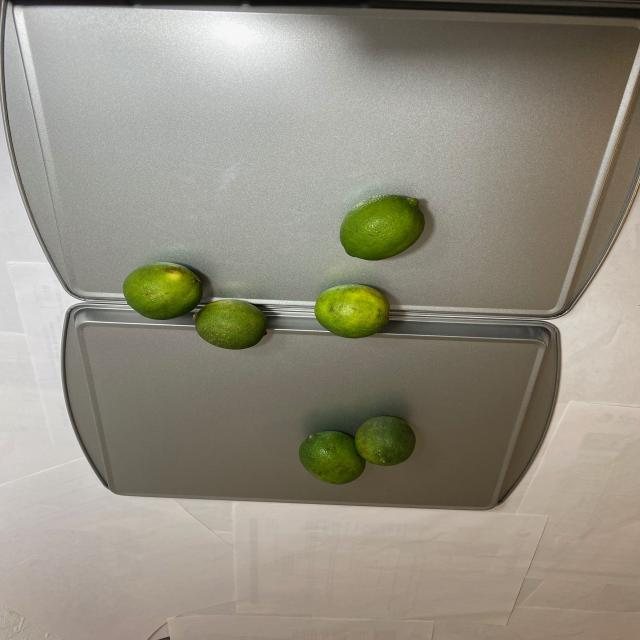lemon: (125, 188, 429, 350), (288, 410, 426, 484)
